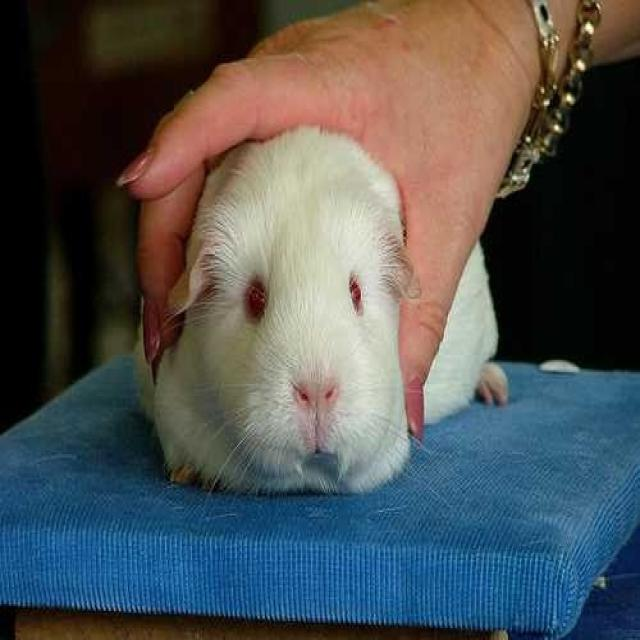guinea pig: (134, 130, 508, 496)
